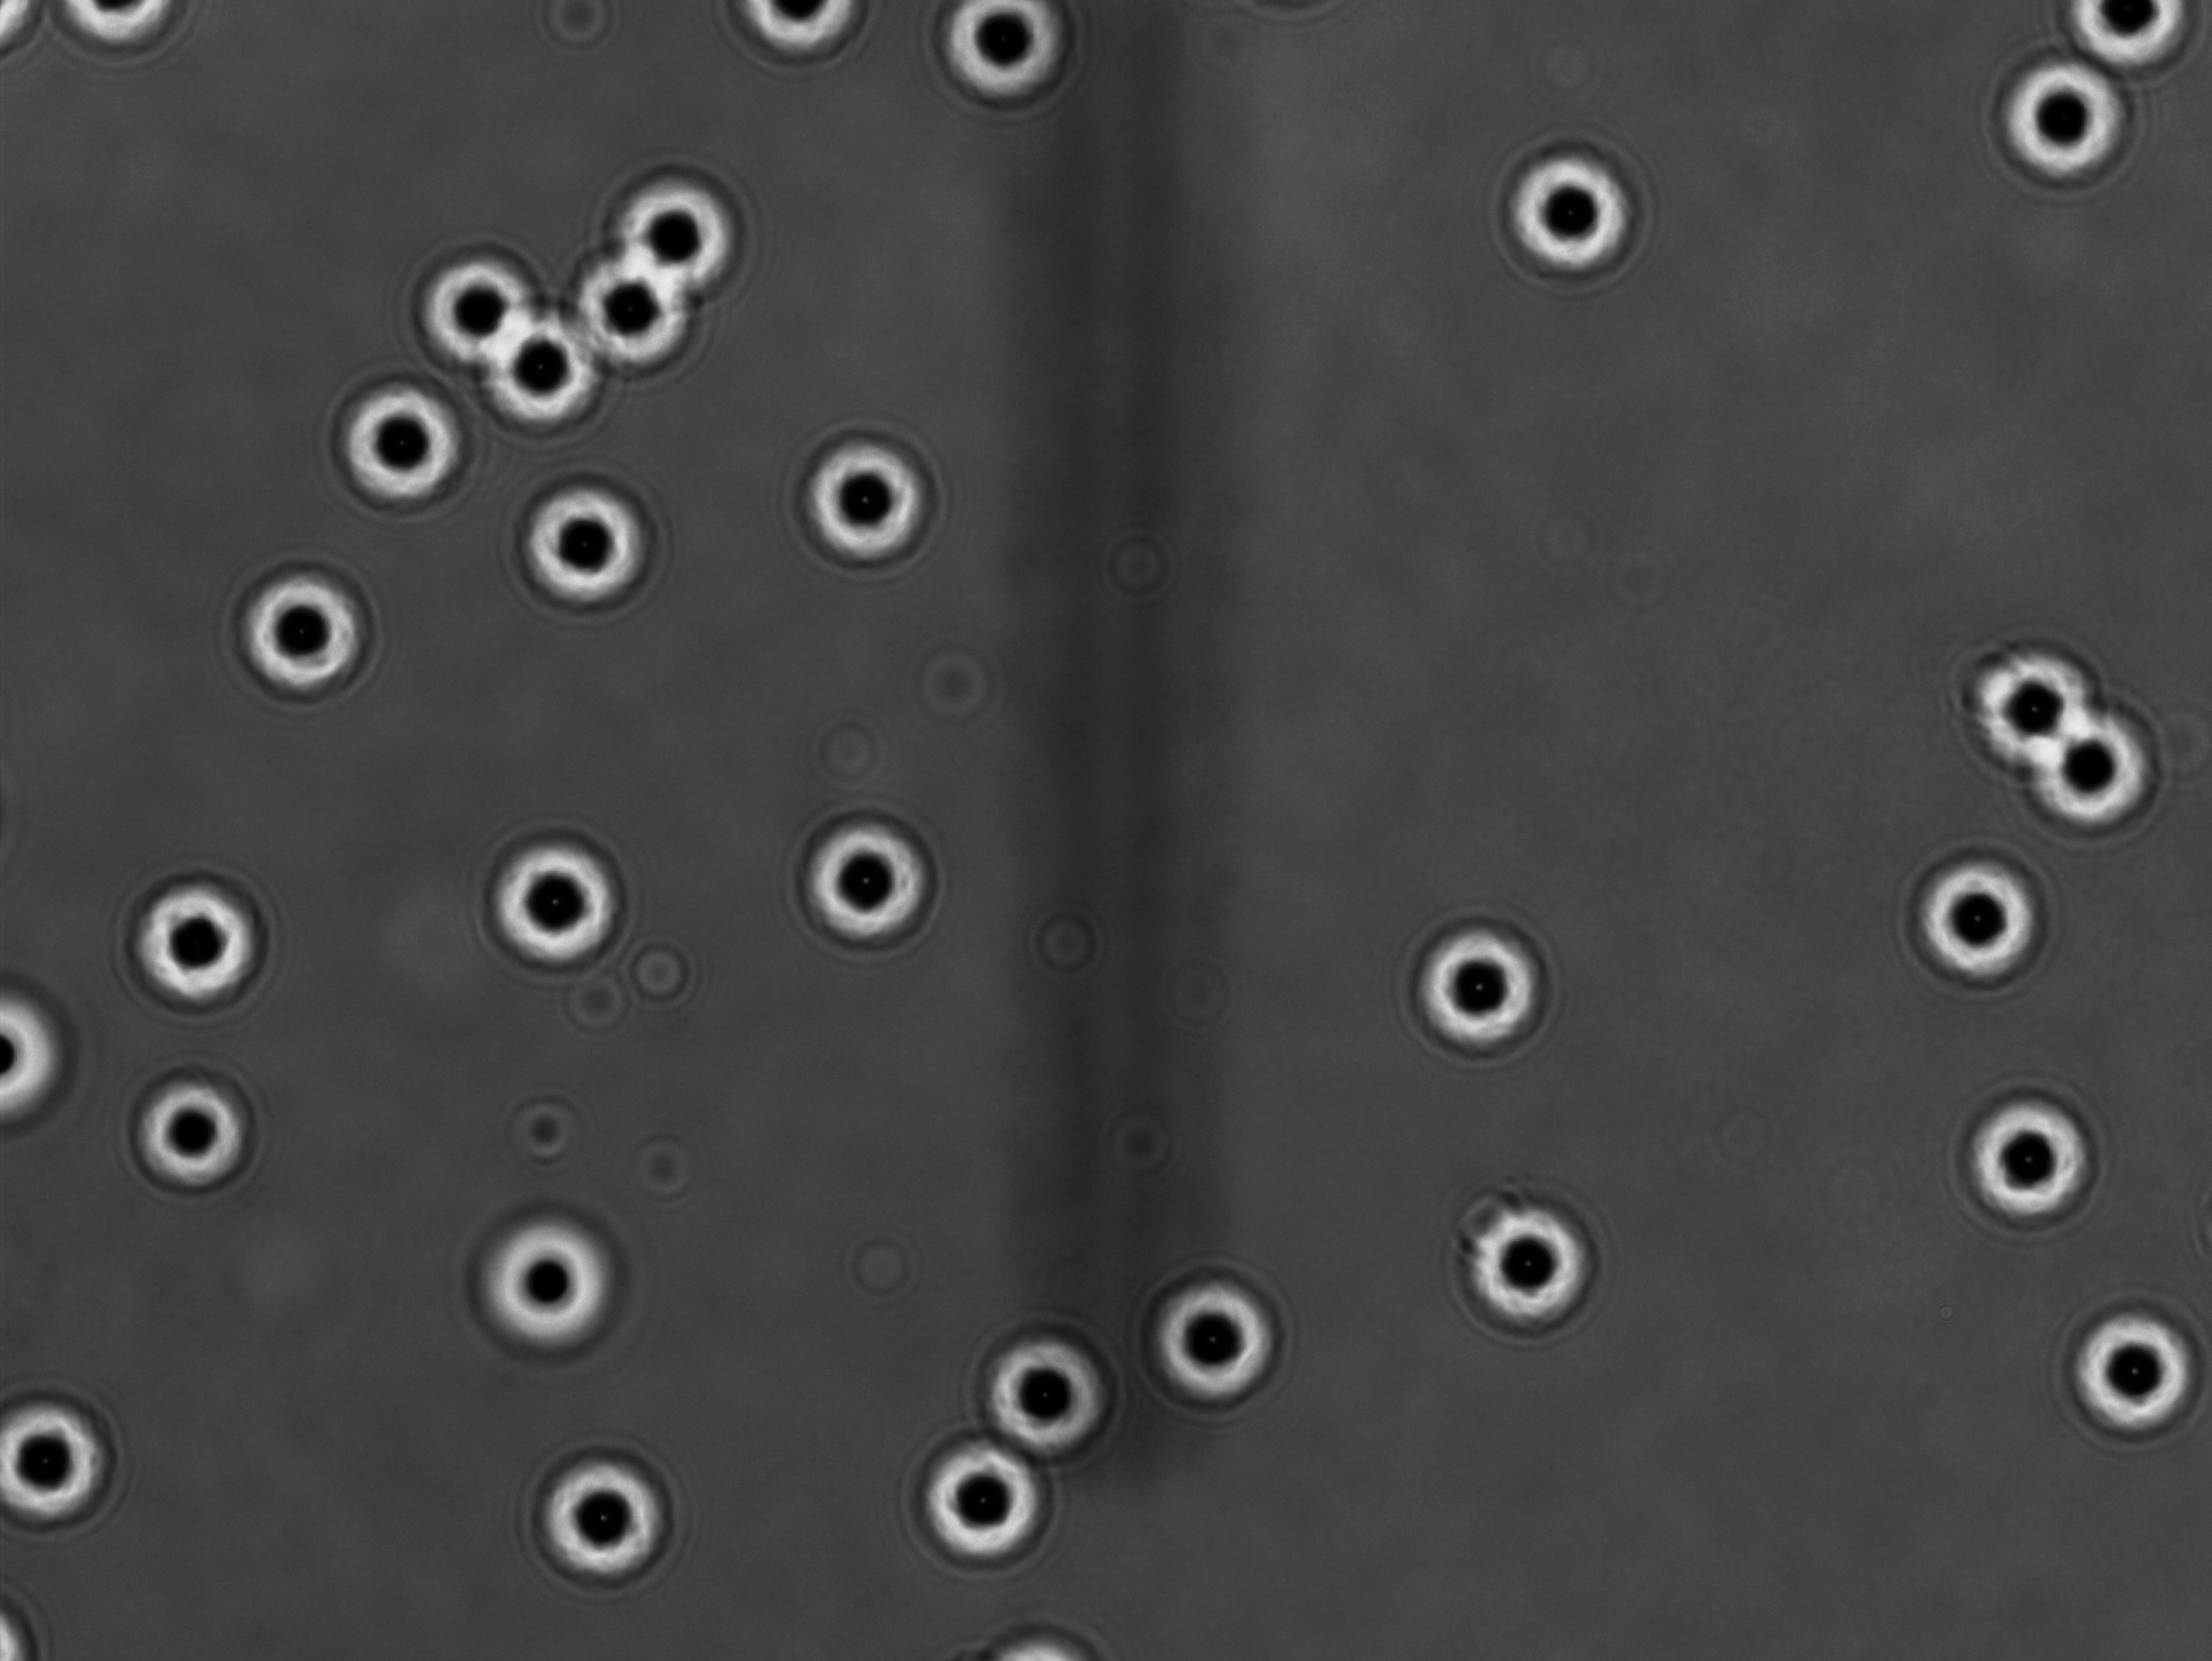depth:-20: (1394, 888, 1567, 1070), (771, 415, 947, 584), (1439, 1185, 1615, 1343), (1900, 839, 2065, 1005), (782, 801, 951, 961), (213, 550, 379, 710), (122, 867, 281, 1033), (1949, 1082, 2114, 1241), (471, 813, 630, 977), (1492, 140, 1656, 298), (106, 1054, 265, 1213), (1129, 1272, 1293, 1425), (2060, 1293, 2212, 1457), (509, 1446, 675, 1595), (502, 471, 663, 621), (914, 1418, 1068, 1570), (961, 1319, 1113, 1471), (321, 372, 469, 525), (1983, 52, 2140, 195), (394, 239, 539, 379), (492, 309, 637, 443), (569, 243, 705, 382), (609, 162, 745, 298)
